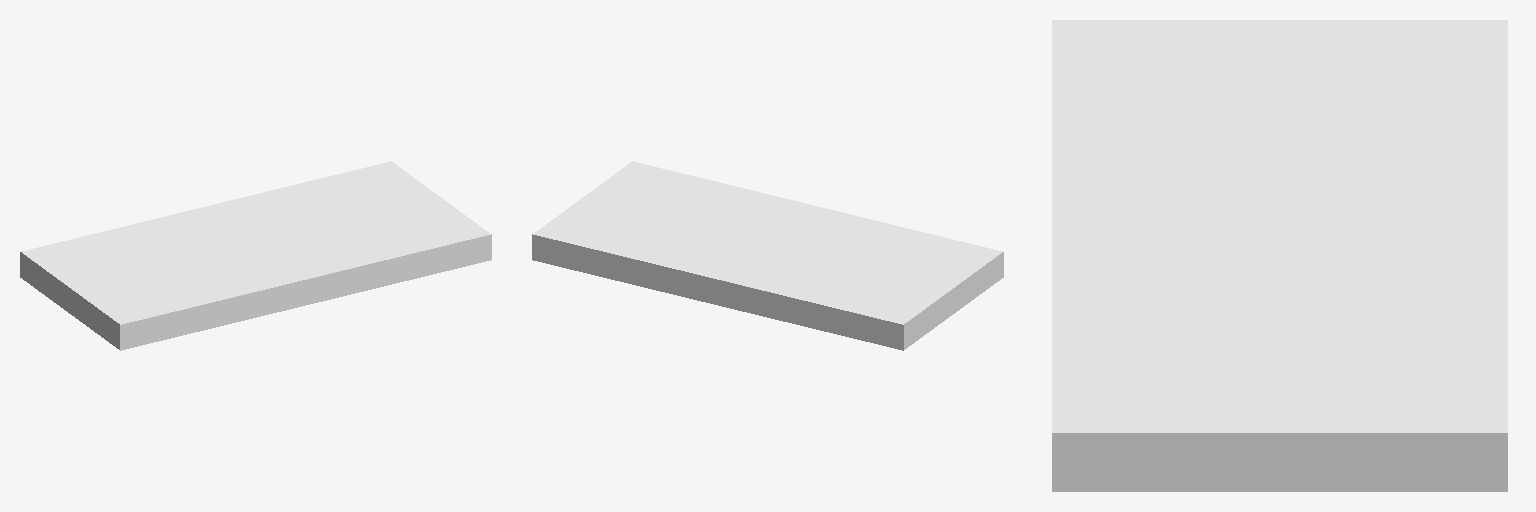
The robot description file, URDF, robot "flat_cube":
<?xml version="0.0" ?>
<robot name="flat_cube">
  <link name="base_link">
  <contact>
      <lateral_friction value="0.3"/>
  </contact>
    <inertial>
      <origin rpy="0 0 0" xyz="0 0 0"/>
       <mass value="0.1"/>
       <inertia ixx="0.001" ixy="0" ixz="0" iyy="0.001" iyz="0" izz="0.001"/>
    </inertial>
    <visual>
      <origin rpy="0 0 0" xyz="0 0 0"/>
      <geometry>
				<mesh filename="cube.obj" scale="0.15 0.07 0.01"/>
      </geometry>
       <material name="white">
        <color rgba="1 1 1 1"/>
      </material>
    </visual>
    <collision>
      <origin rpy="0 0 0" xyz="0 0 0"/>
      <geometry>
				<mesh filename="cube.obj" scale="0.15 0.07 0.01"/>
      </geometry>
    </collision>
  </link>
</robot>

--- Facts derived from the render (not from the file) ---
The picture shows the robot from 3 angles, left to right: view 1: azimuth 30°, elevation 25°; view 2: azimuth 150°, elevation 25°; view 3: azimuth 270°, elevation 25°; orthographic projection.
Robot: flat_cube — 1 links, 0 joints (none); root link base_link; default pose: all joints at 0.
Links seen in each view (by area): view 1: base_link; view 2: base_link; view 3: base_link.
Boxes of the visible links, left/top/right/bottom form: base_link: left=20, top=161, right=491, bottom=350; base_link: left=532, top=161, right=1003, bottom=350; base_link: left=1052, top=20, right=1507, bottom=491.
Bounding box of the posed robot: 0.15 × 0.07 × 0.01 m (x, y, z).
1 mesh visuals loaded from 1 distinct referenced files (1 OBJ).
